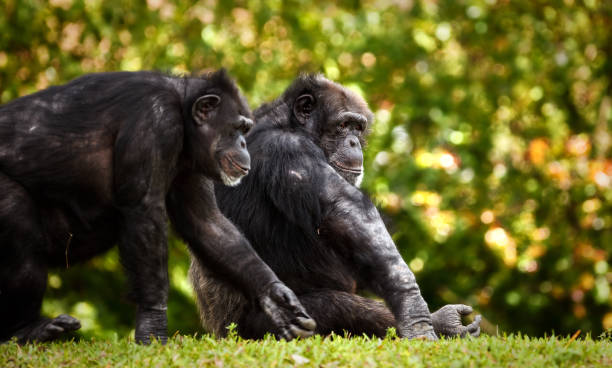chimpanzee: (281, 60, 379, 205), (165, 58, 260, 199)
